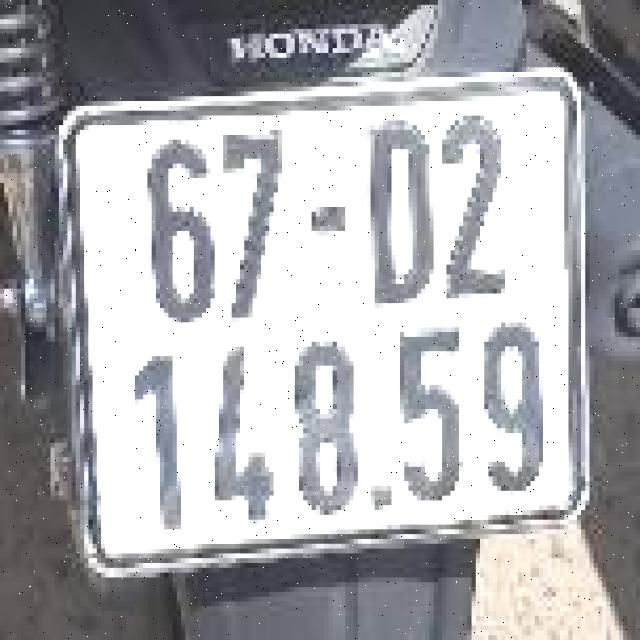1: (124, 342, 196, 548)
2: (436, 101, 516, 318)
4: (211, 320, 282, 537)
5: (392, 310, 476, 512)
6: (133, 128, 221, 330)
7: (217, 108, 297, 325)
8: (286, 334, 375, 536)
9: (480, 313, 556, 505)
D: (352, 101, 444, 313)
